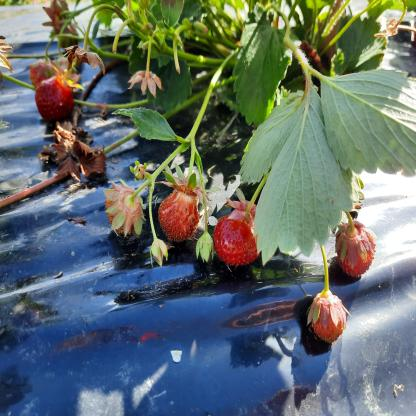ripe: (219, 209, 258, 258), (36, 76, 73, 119), (34, 62, 60, 82)
unripe: (152, 199, 207, 247), (310, 294, 357, 343), (100, 188, 139, 233), (339, 227, 373, 268)
